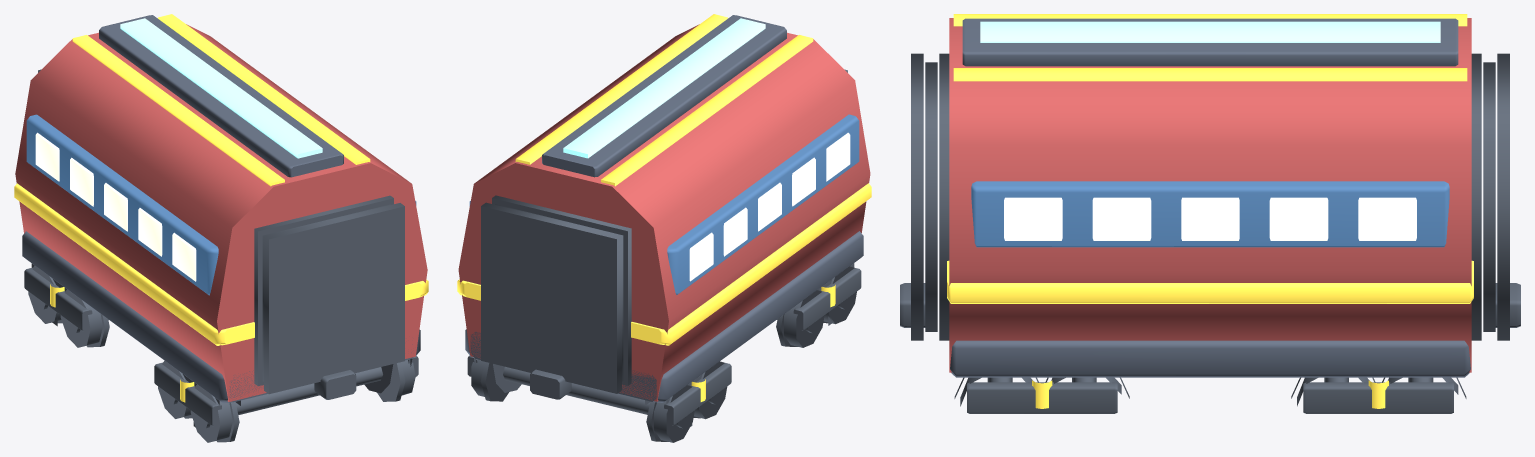
The model's file is carriage_bullet.glb.
3 views of the same model, side by side, from view 1: azimuth 30°, elevation 25°; view 2: azimuth 150°, elevation 25°; view 3: azimuth 270°, elevation 25° (orthographic). The views are drawn at different scales.
Parts seen in each view (by area): view 1: CarriageBulletStreamlined, WheelSet_0; view 2: CarriageBulletStreamlined, WheelSet_1; view 3: CarriageBulletStreamlined.
Boxes of the visible parts, left/top/right/bottom form: CarriageBulletStreamlined: left=14, top=14, right=428, bottom=442; WheelSet_0: left=183, top=358, right=412, bottom=427; CarriageBulletStreamlined: left=457, top=14, right=871, bottom=442; WheelSet_1: left=474, top=358, right=702, bottom=426; CarriageBulletStreamlined: left=900, top=14, right=1520, bottom=413.
Bounding box in the file's own units: 0.362 × 0.4453 × 0.701.
